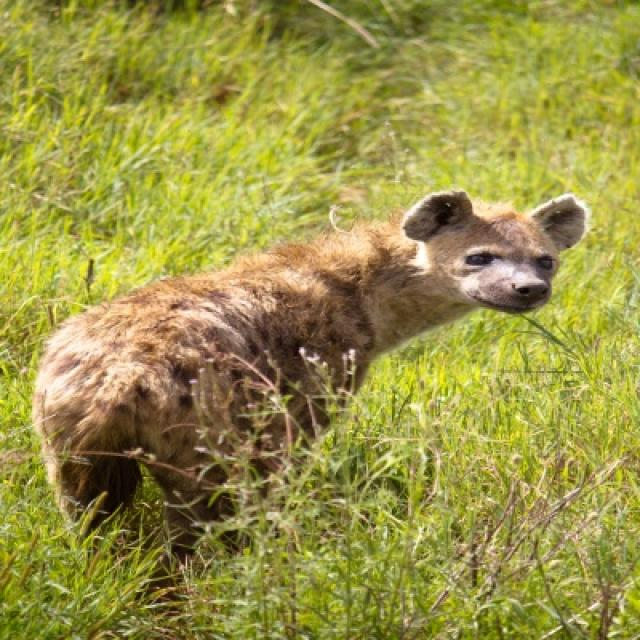hyena: (30, 189, 592, 597)
